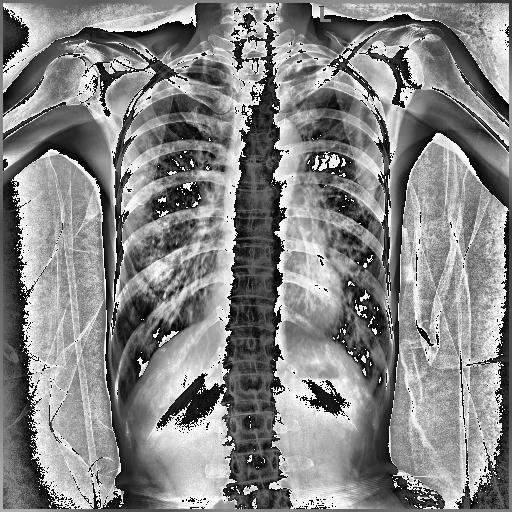11- Pleural thickening: (280, 53, 331, 65), (178, 58, 218, 70)
13- Pulmonary fibrosis: (106, 128, 226, 388), (298, 154, 390, 417)
3- Cardiomegaly: (254, 116, 305, 168)
5- ILD: (106, 128, 226, 388), (298, 154, 390, 417), (119, 142, 219, 347), (122, 157, 213, 381), (300, 161, 388, 392), (321, 192, 395, 396)
6- Infiltration: (119, 142, 219, 347), (122, 157, 213, 381), (300, 161, 388, 392)
8- Nodule-Mass: (369, 112, 377, 119)
